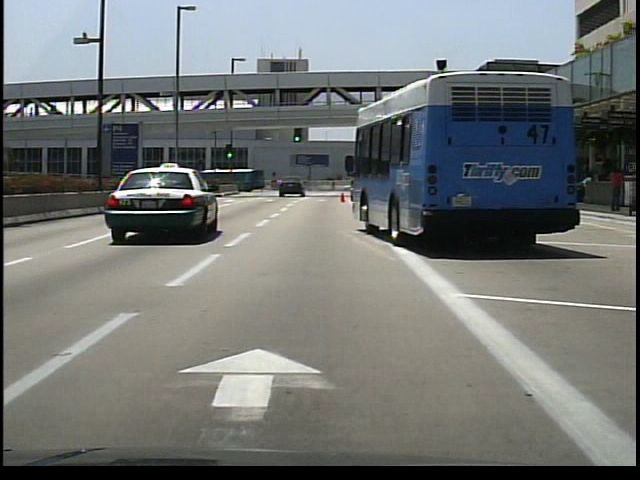person: (606, 162, 624, 215)
